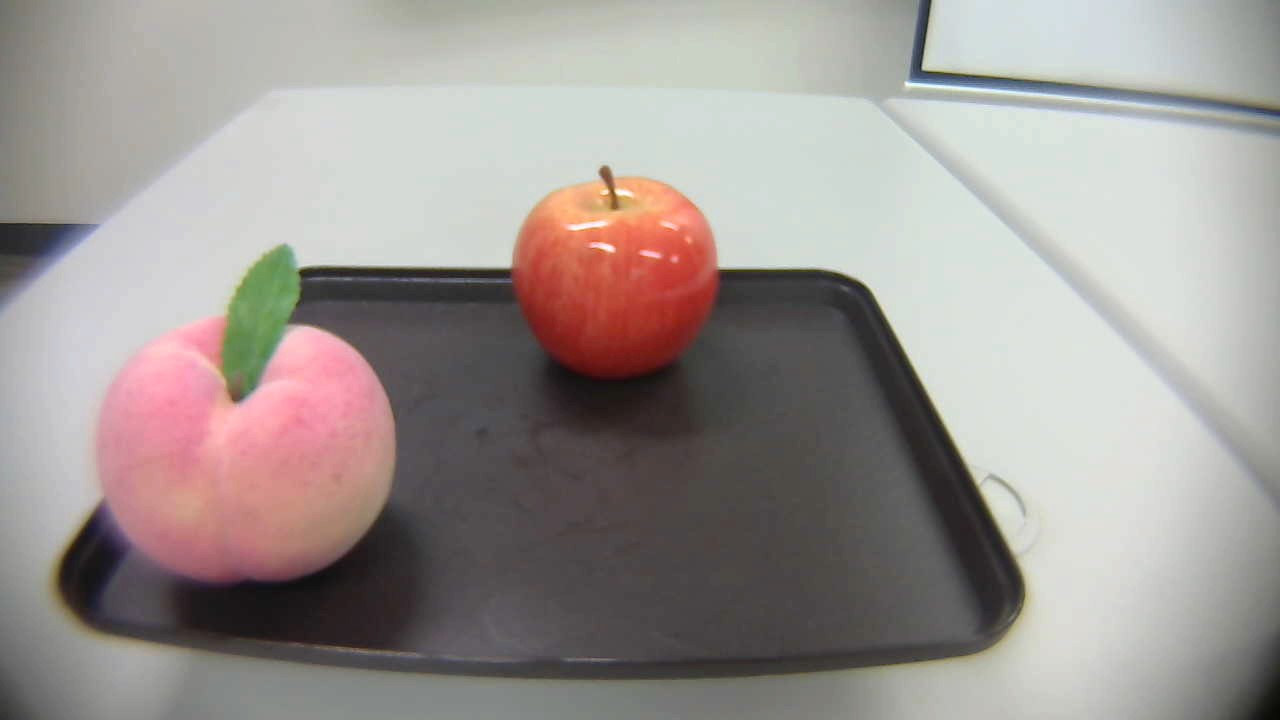peach: (80, 238, 407, 593)
red apple: (502, 159, 723, 385)
